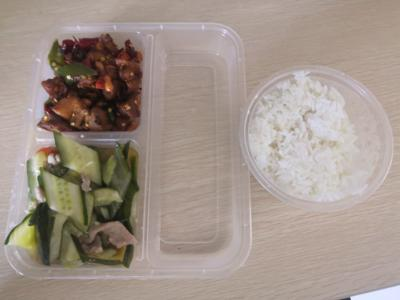rice: (249, 65, 383, 207)
